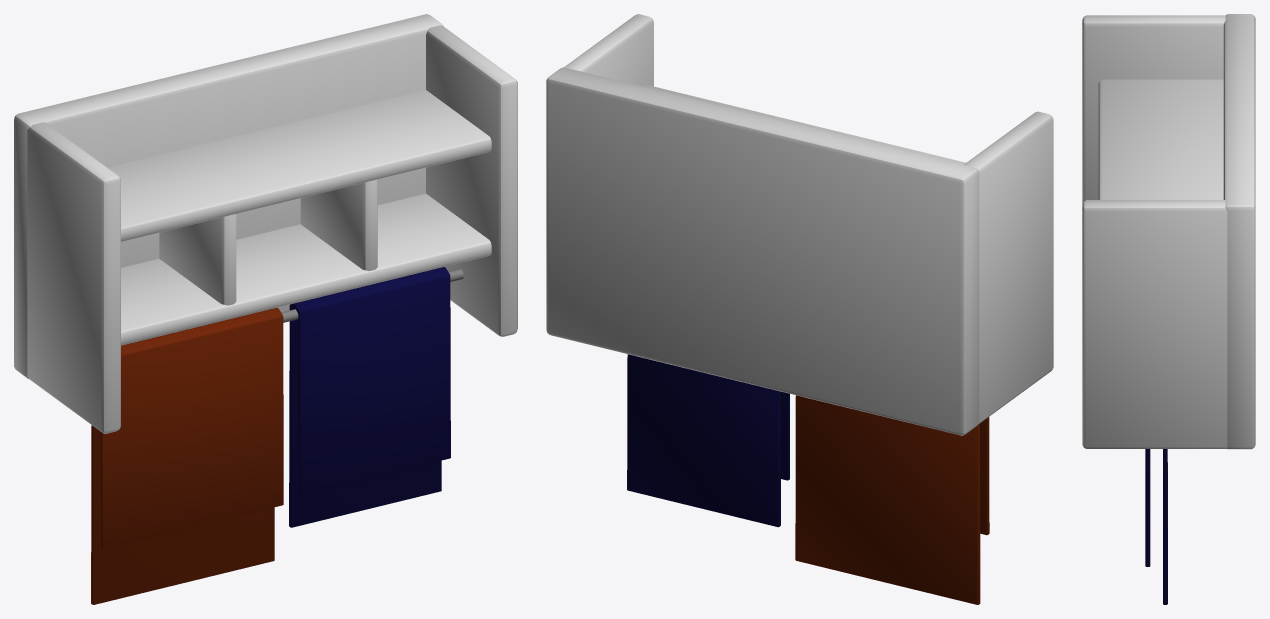
The model's file is Bathroom shelf.FBX.
3 views of the same model, side by side, from view 1: azimuth 30°, elevation 25°; view 2: azimuth 150°, elevation 25°; view 3: azimuth 270°, elevation 25° (orthographic). The views are drawn at different scales.
Parts seen in each view (by area): view 1: Bathroom shelf; view 2: Bathroom shelf; view 3: Bathroom shelf.
Boxes of the visible parts, x1,y1,x2,y2 form: Bathroom shelf: (14,14,517,604); Bathroom shelf: (546,14,1053,604); Bathroom shelf: (1082,14,1255,604).
Bounding box in the file's own units: 107 × 114 × 40.47.
Materials: 4 (1 with a texture image).
